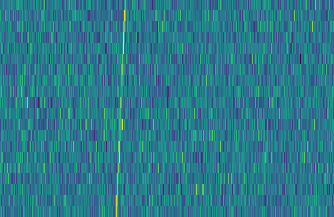signal: (111, 0, 129, 217)
